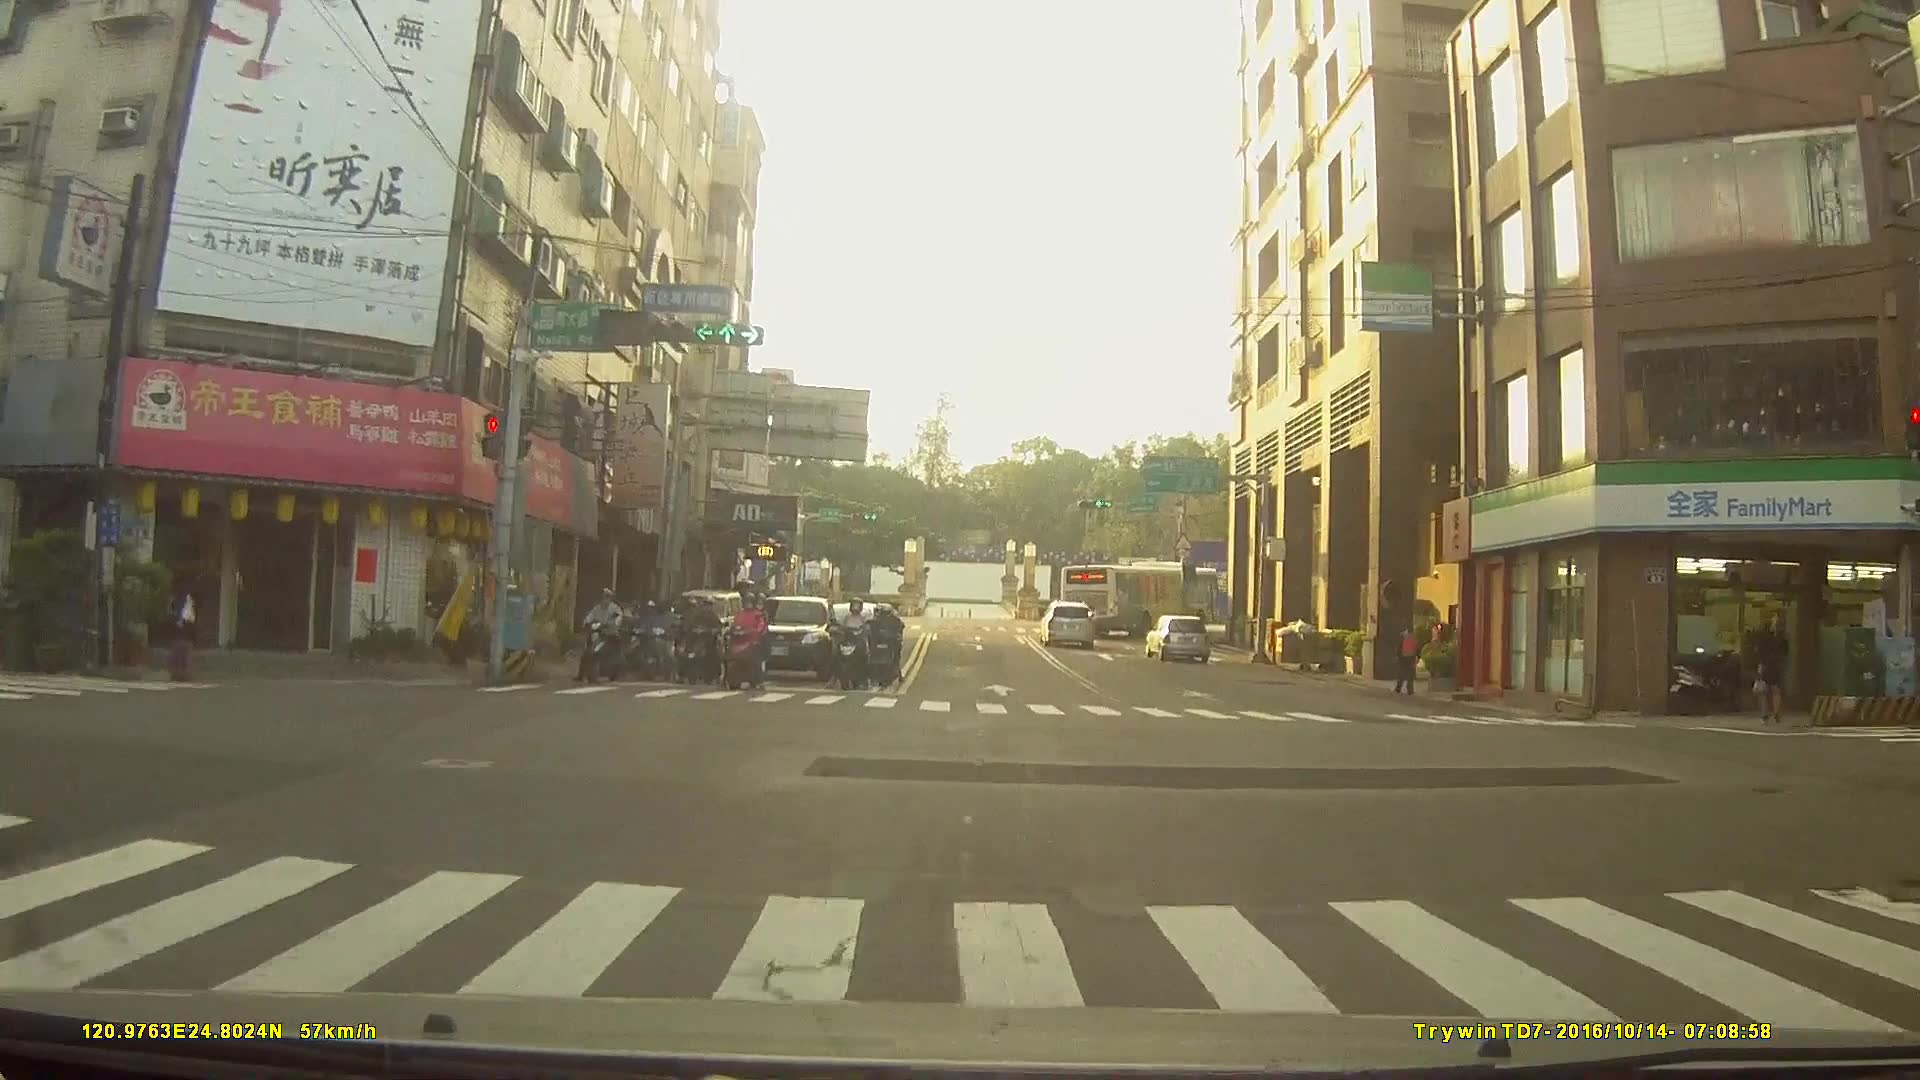pedestrian: (158, 569, 206, 693), (1754, 608, 1796, 726), (1391, 625, 1424, 696)
rider: (719, 584, 774, 692), (581, 582, 625, 681), (833, 597, 873, 692), (628, 601, 669, 685), (869, 608, 908, 691), (680, 600, 716, 687)
vehicle: (1057, 559, 1219, 633), (739, 591, 838, 682), (1141, 612, 1210, 660), (1039, 600, 1097, 650)
